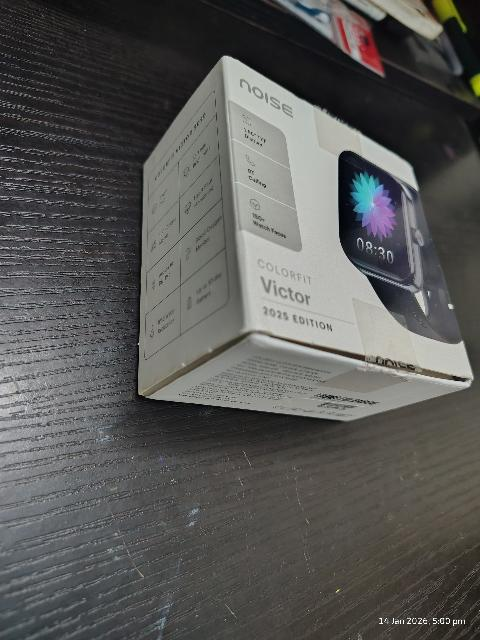noise victor smartwatch: (137, 81, 451, 452)
